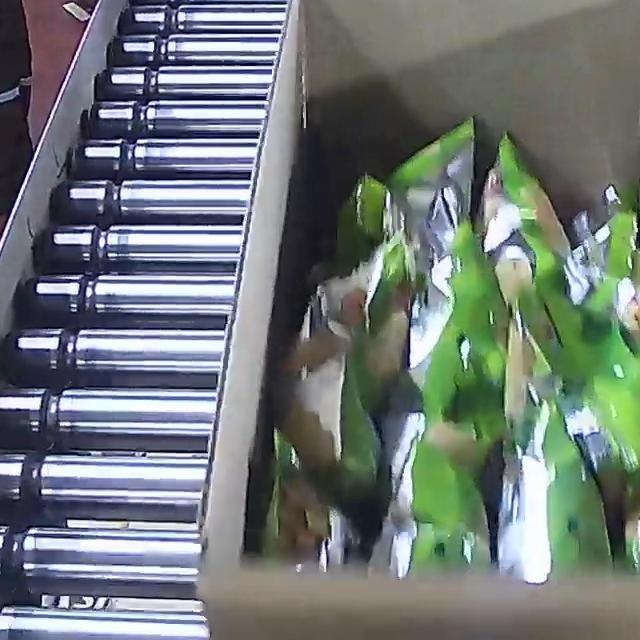yogurt: (263, 113, 640, 583)
